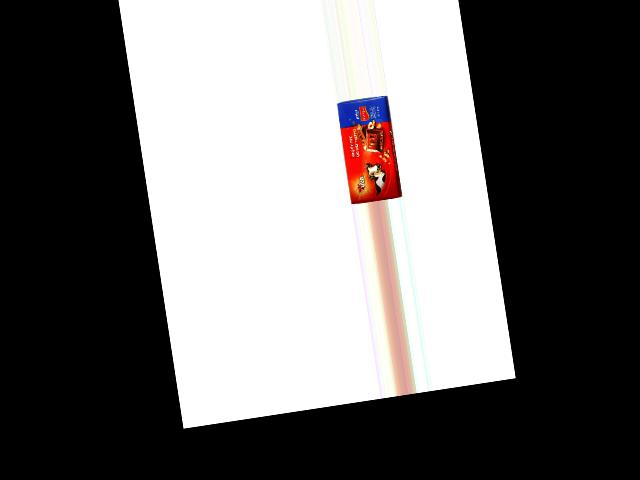chocolate: (337, 95, 407, 204)
